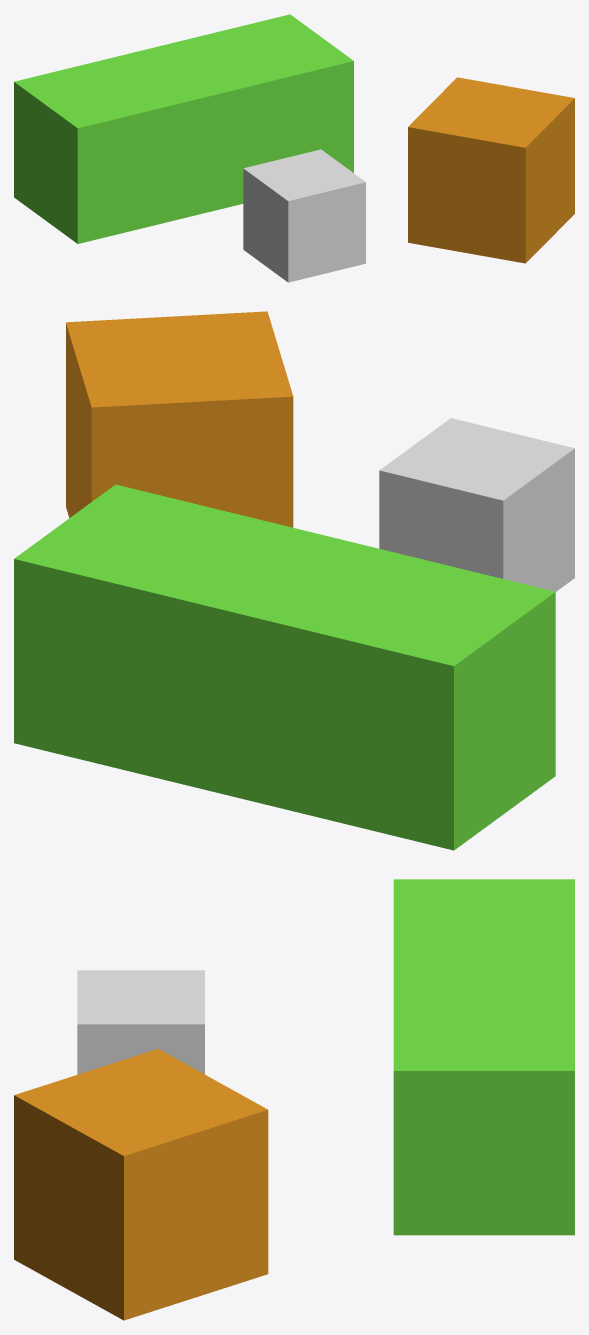
Rendered from 3_cubes_Z_Y.fbx.
3 views of the same model, one above another, from view 1: azimuth 30°, elevation 25°; view 2: azimuth 150°, elevation 25°; view 3: azimuth 270°, elevation 25° (orthographic). The views are drawn at different scales.
Visible parts, largest first — view 1: Cube.001, Cube.002, Cube; view 2: Cube.001, Cube.002, Cube; view 3: Cube.001, Cube.002, Cube.
Part boxes in pixels (x1,y1,x2,y2): Cube.001: [14, 14, 353, 243]; Cube.002: [408, 77, 574, 263]; Cube: [243, 149, 365, 282]; Cube.001: [14, 484, 555, 850]; Cube.002: [66, 311, 293, 527]; Cube: [379, 418, 574, 591]; Cube.001: [393, 879, 574, 1235]; Cube.002: [14, 1048, 268, 1320]; Cube: [77, 970, 204, 1074].
Bounding box in the file's own units: 7.28 × 6.18 × 2.03.
